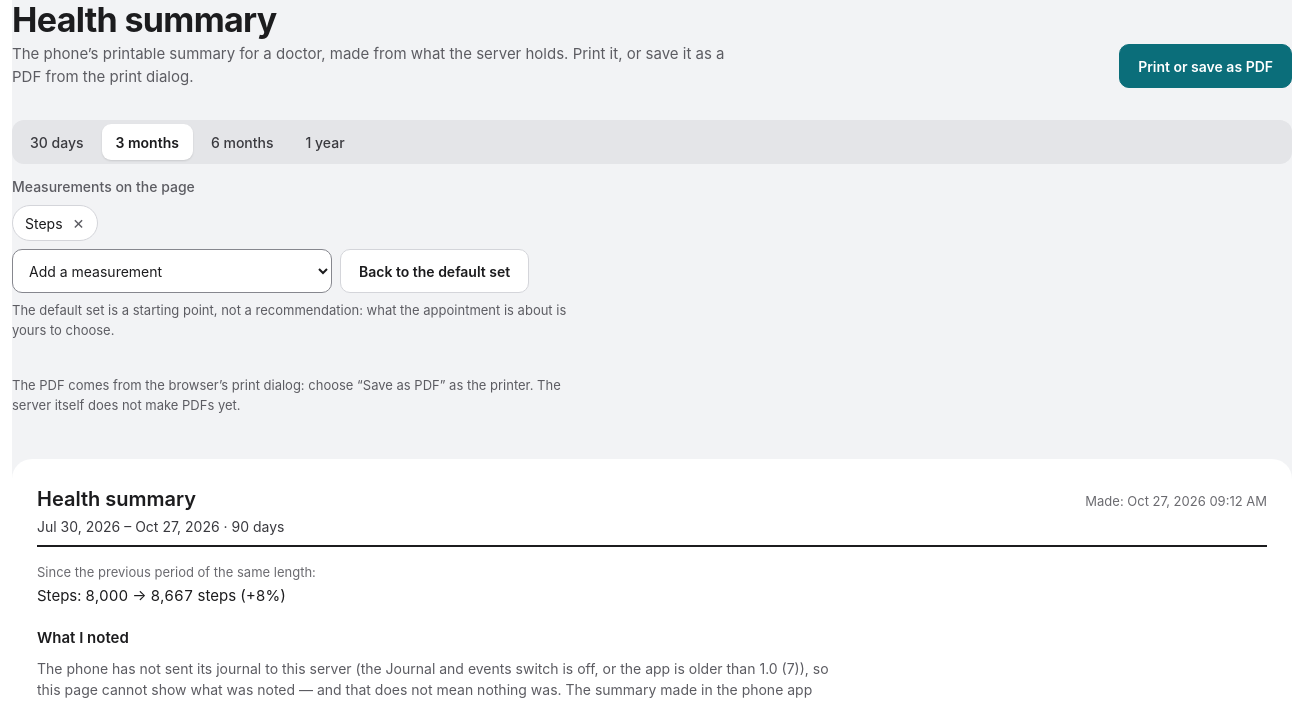
it: the health summary page › a measurement can be added from the catalog
Select "Resting heart rate" in the dropdown named "Add a measurement" at (172, 271), box [12, 249, 332, 293]
(page scrolled)
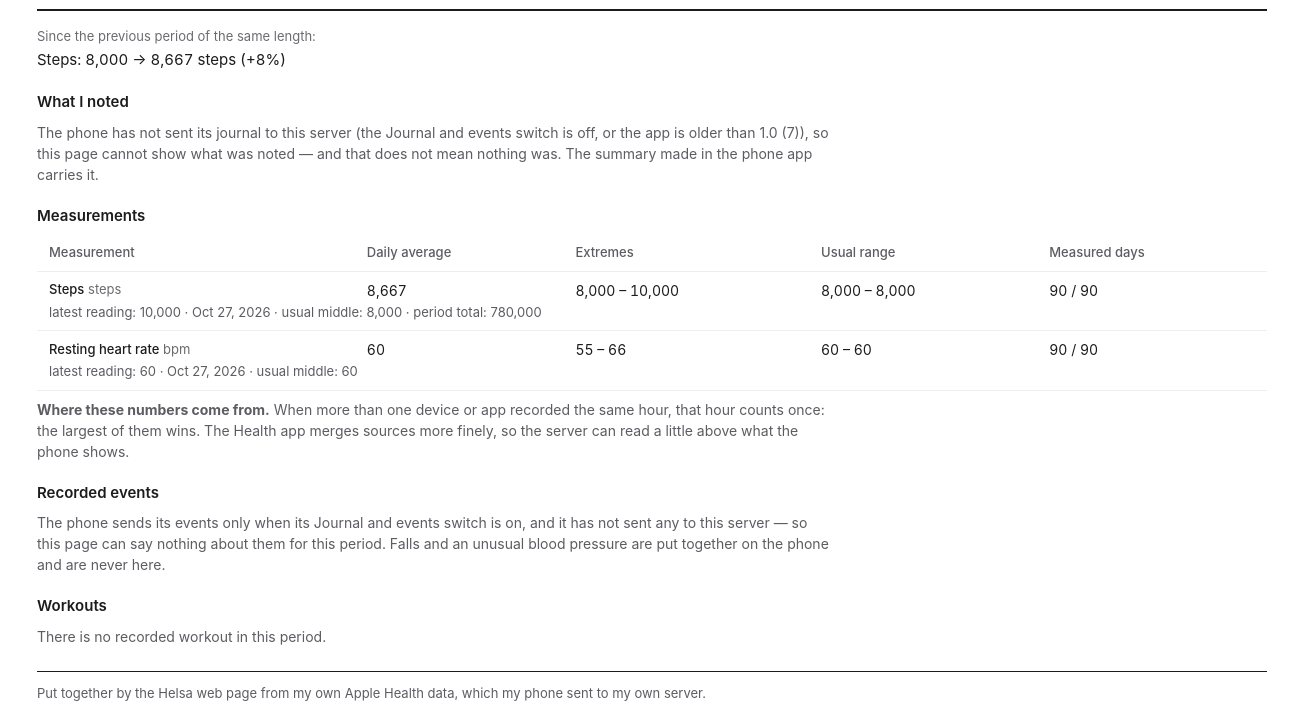
Expected: the table with test id "report-row-restingHeartRate" is shown, [37, 331, 1267, 390]
